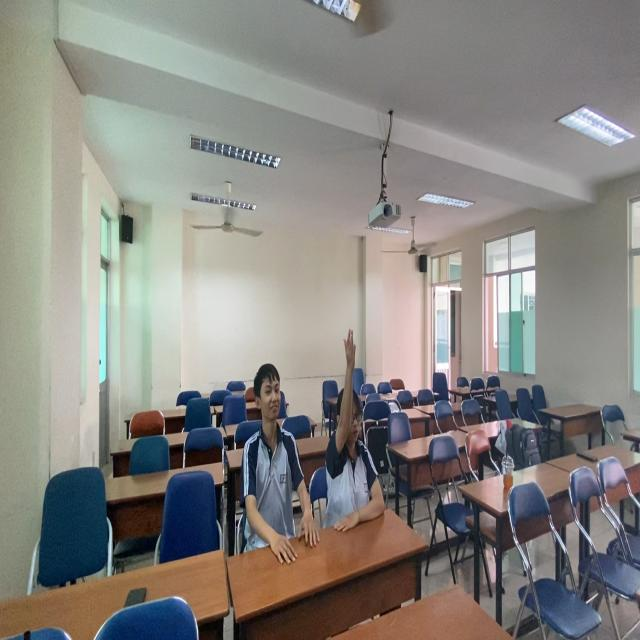raise_hand: (326, 323, 393, 539)
